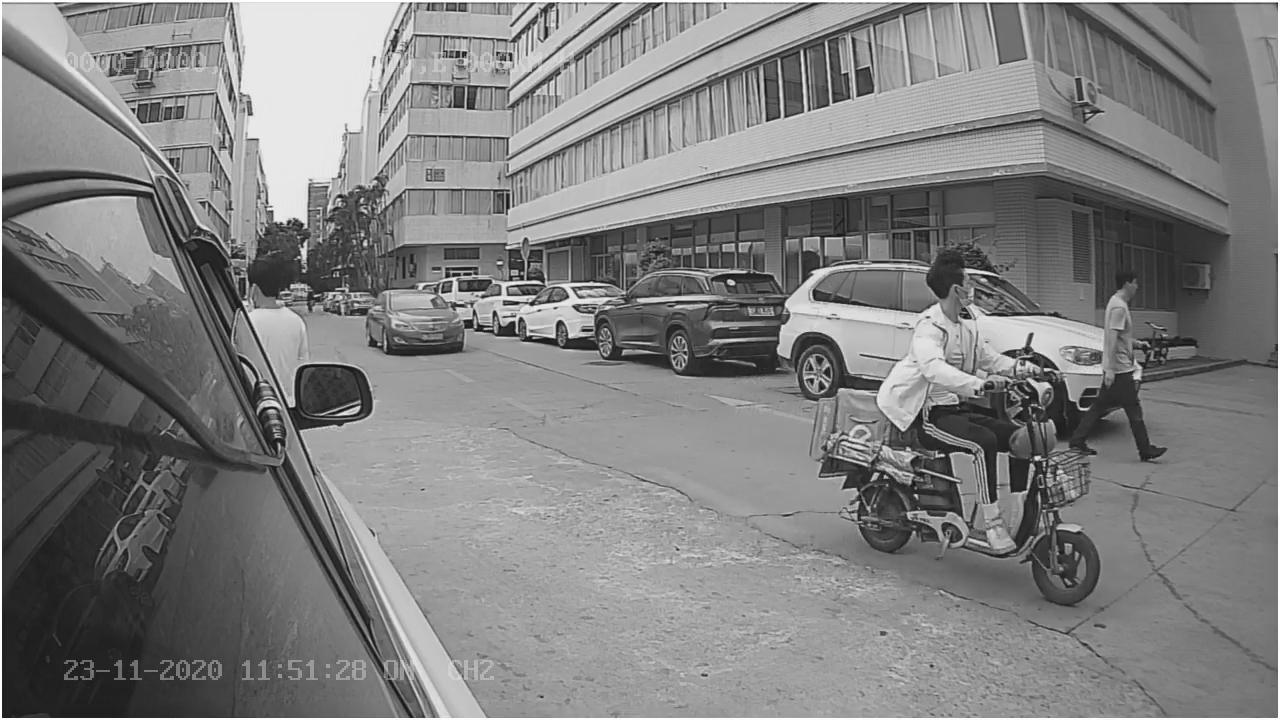person: (1067, 265, 1170, 452), (903, 251, 1022, 395)
